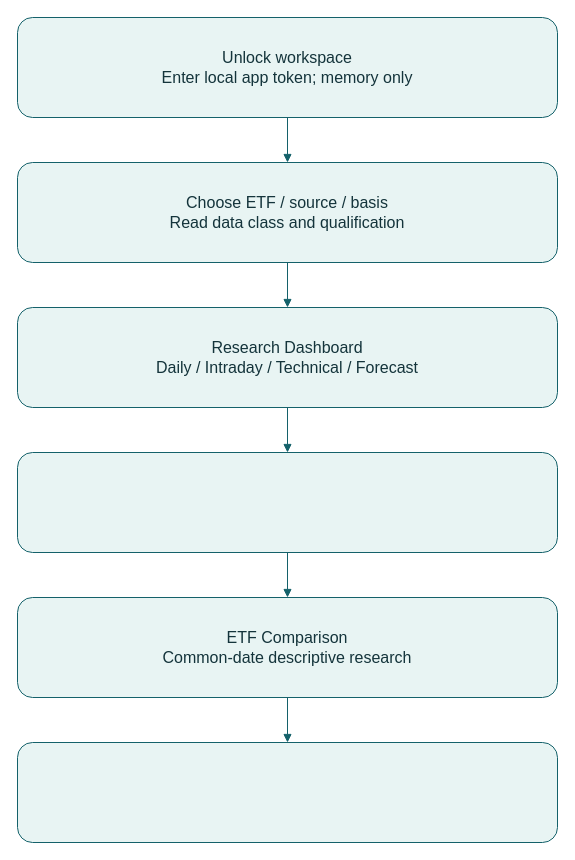
Image size: 575x860. Some labels were removed from this diagram. The shapes that lost their labels are listed below. From the top down, each one's centre as x and y in pixels, then its label:
At pixel 287 502: "History and Quality Inspect dates, gaps, evidence".
At pixel 287 792: "Return to Dashboard Settings retained; new ETF data refreshed".
